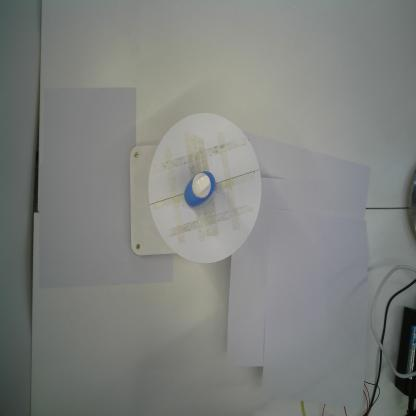Personal Hygiene: (184, 171, 215, 206)
